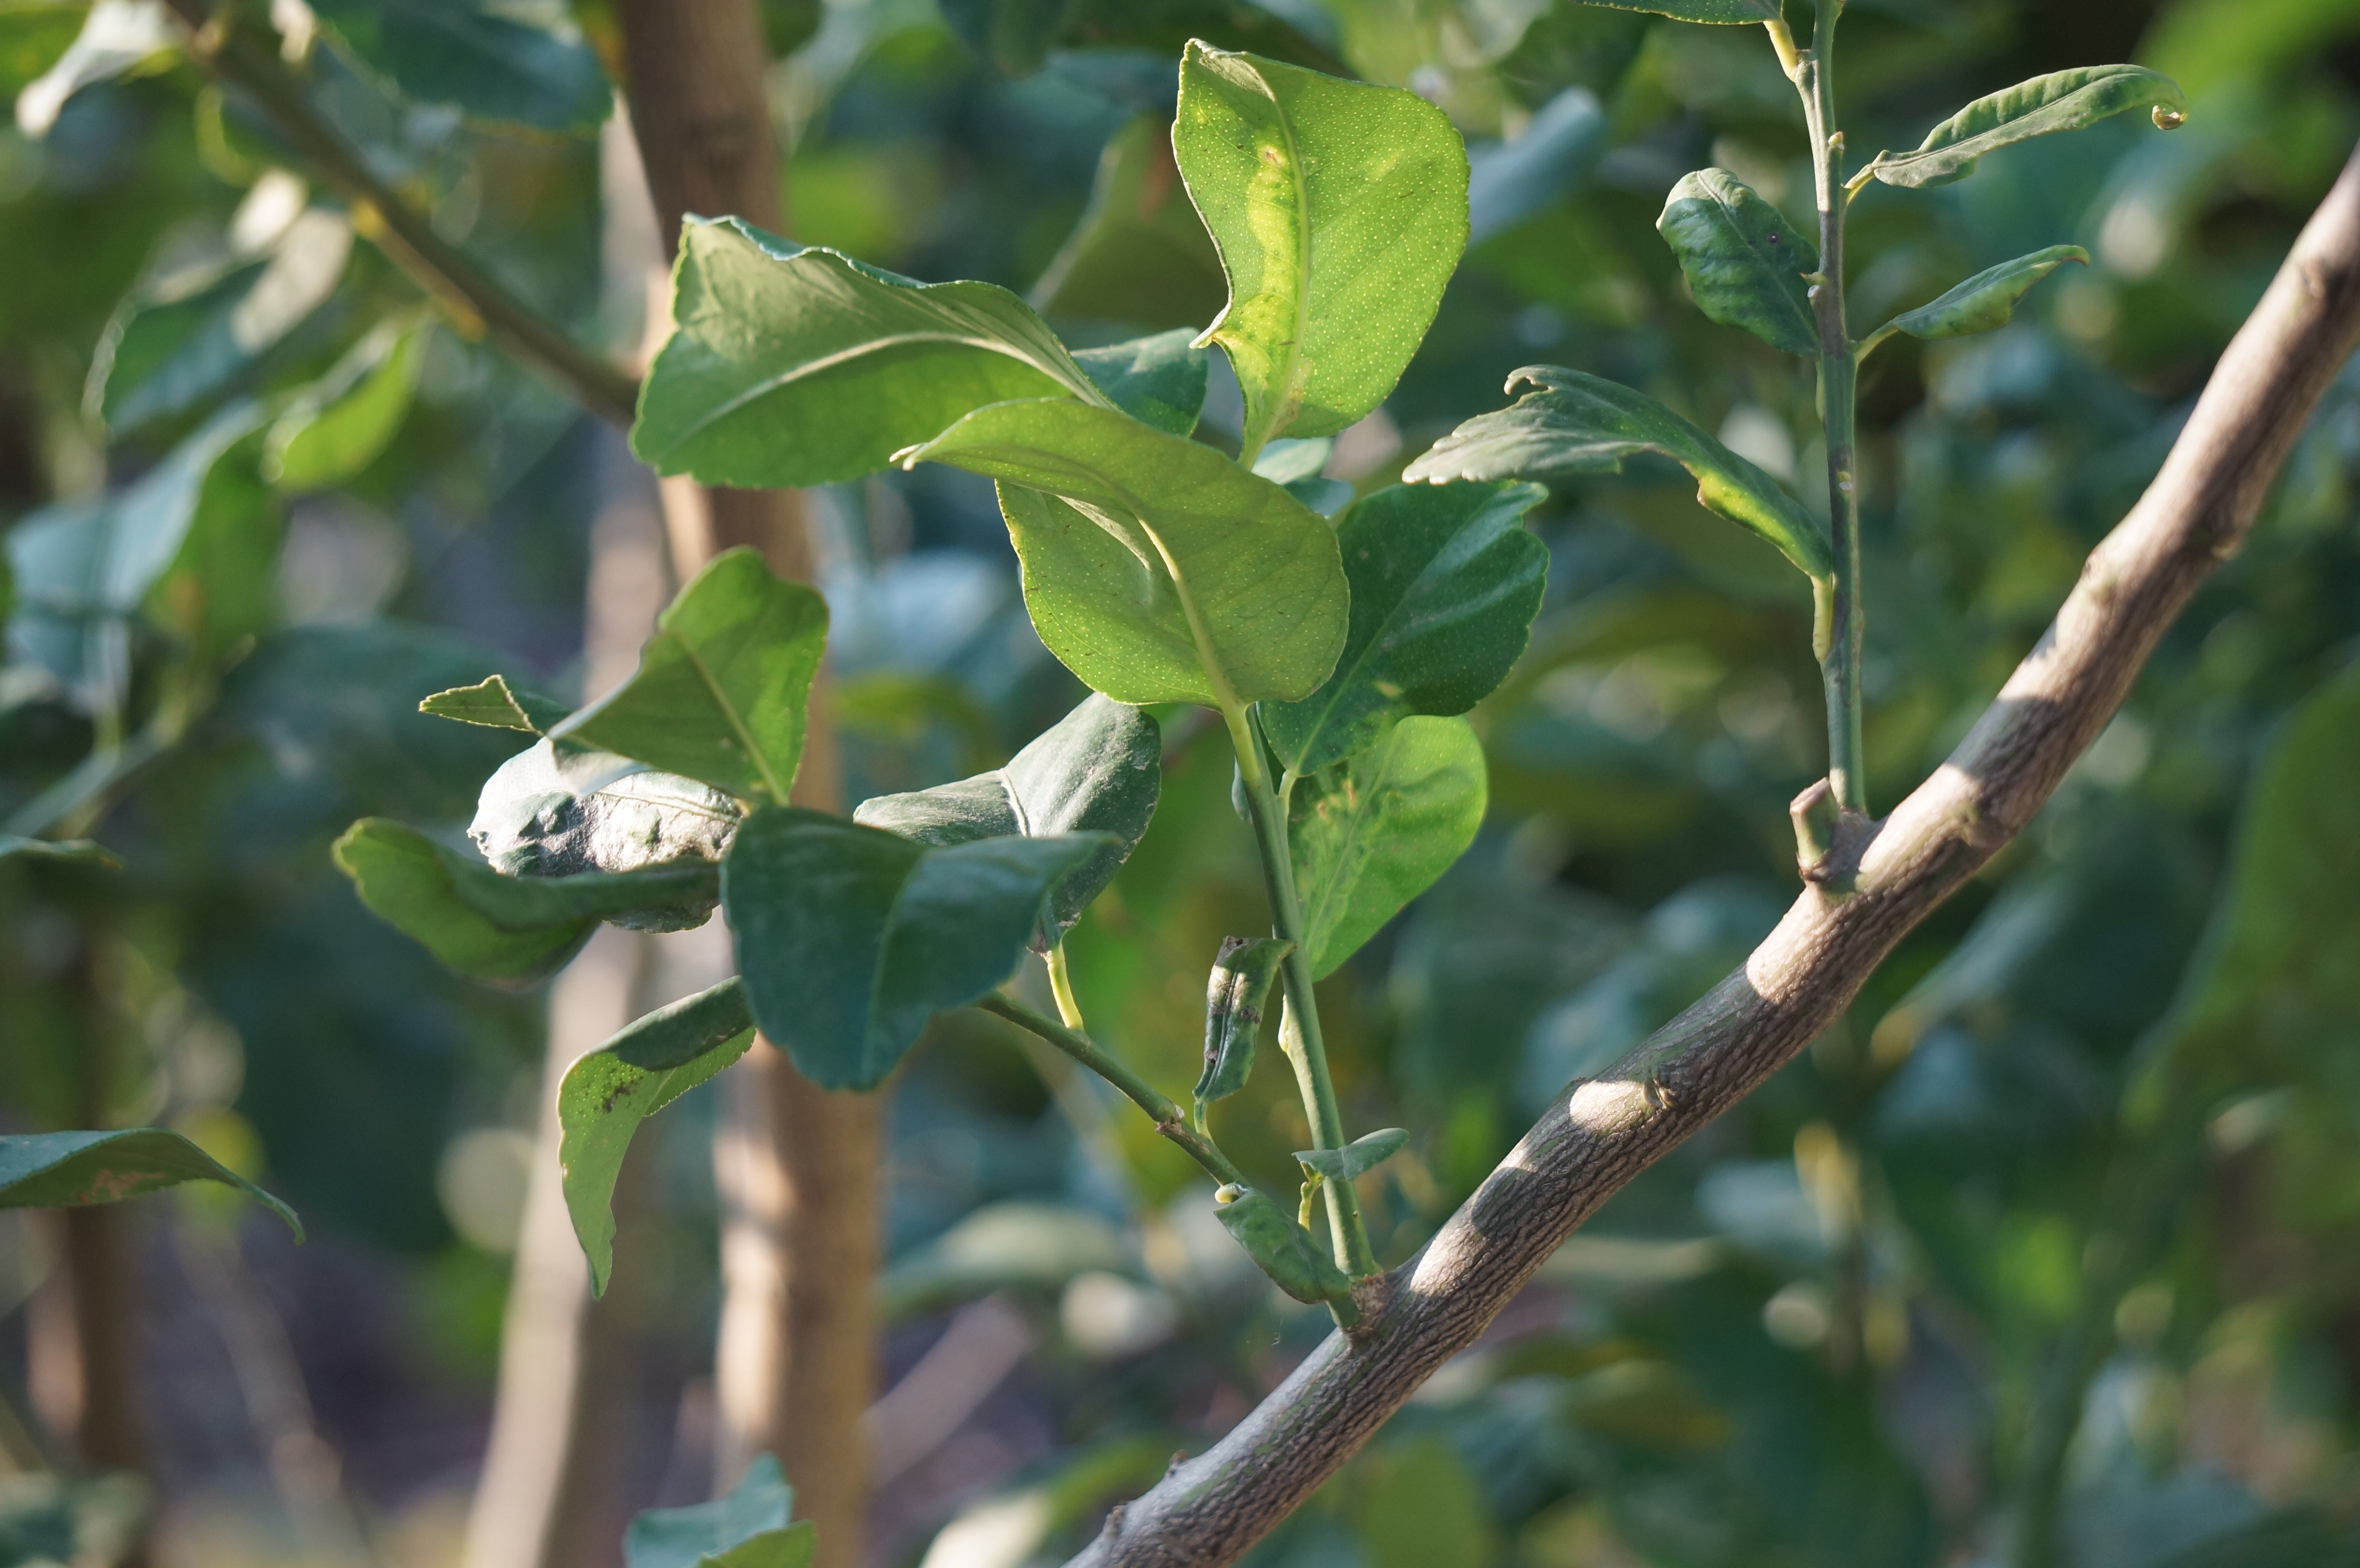curly: (1851, 227, 2098, 376), (1205, 1169, 1372, 1347), (1190, 922, 1300, 1136)
